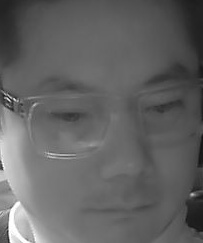eye: (48, 106, 86, 125), (146, 98, 184, 116)
glass: (23, 94, 113, 159), (133, 78, 203, 141)
mouth: (81, 191, 154, 227)
